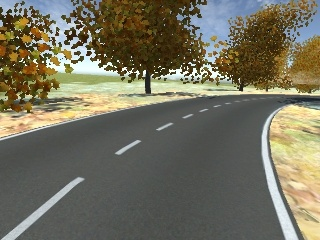Line slipt: (114, 113, 195, 159)
